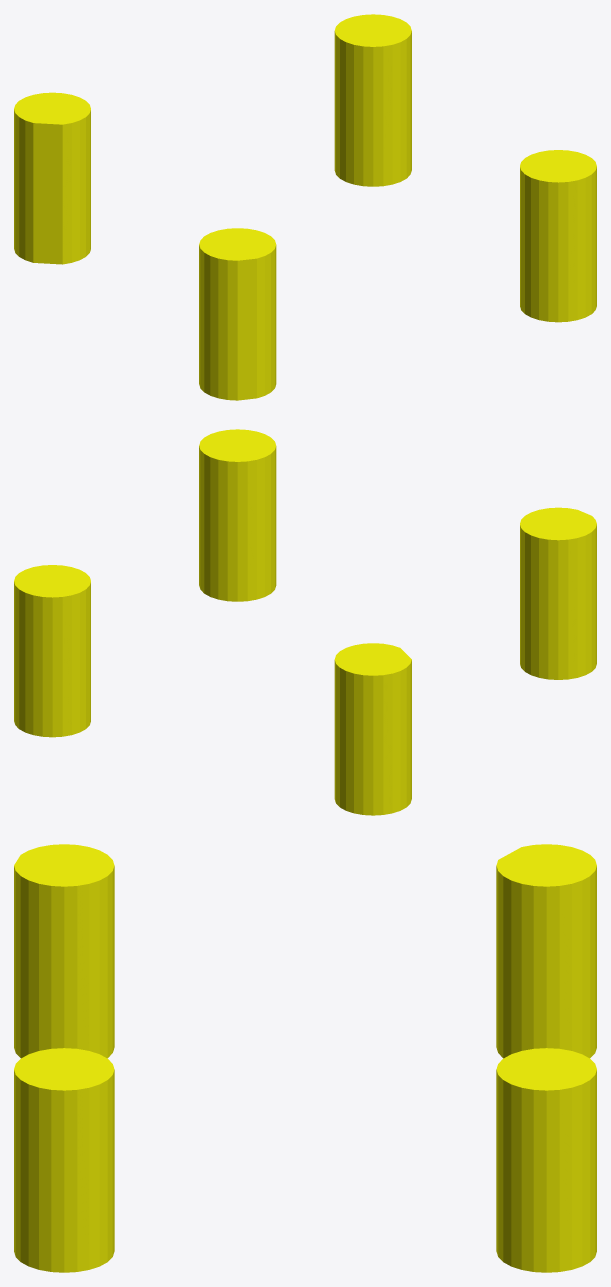
The model's file is Eurotruss_FD34_Spacers-b1529475.glb.
The picture shows the model from 3 angles, top to bottom: view 1: azimuth 30°, elevation 25°; view 2: azimuth 150°, elevation 25°; view 3: azimuth 270°, elevation 25°; orthographic projection. The views are drawn at different scales.
Visible parts, largest first — view 1: Geom3D; view 2: Geom3D; view 3: Geom3D.
Boxes of the visible parts, x1,y1,x2,y2 form: Geom3D: [14, 14, 596, 400]; Geom3D: [14, 429, 596, 815]; Geom3D: [14, 844, 596, 1272].
Size of the model in its own units: 0.29 by 0.1 by 0.29.
